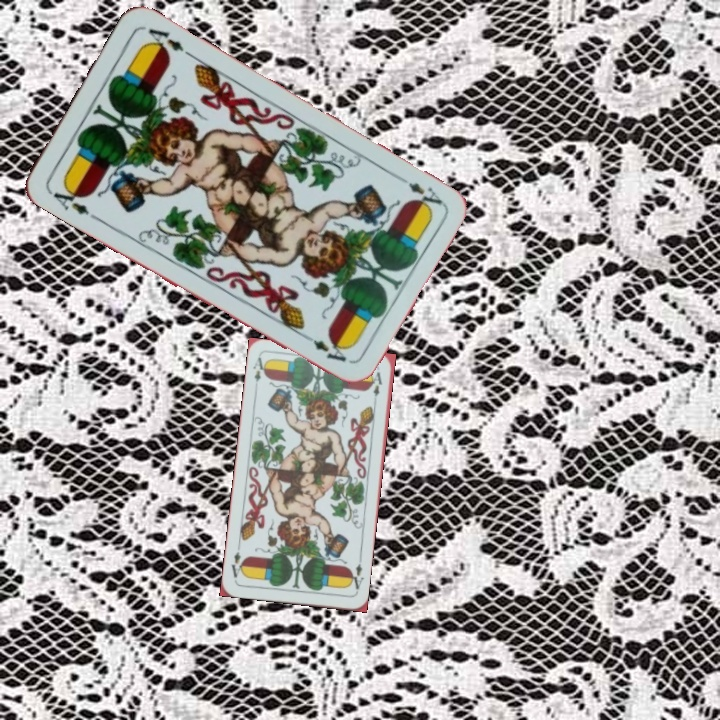EA: (392, 170, 446, 213), (45, 181, 92, 218), (345, 554, 366, 592), (249, 353, 269, 385)
